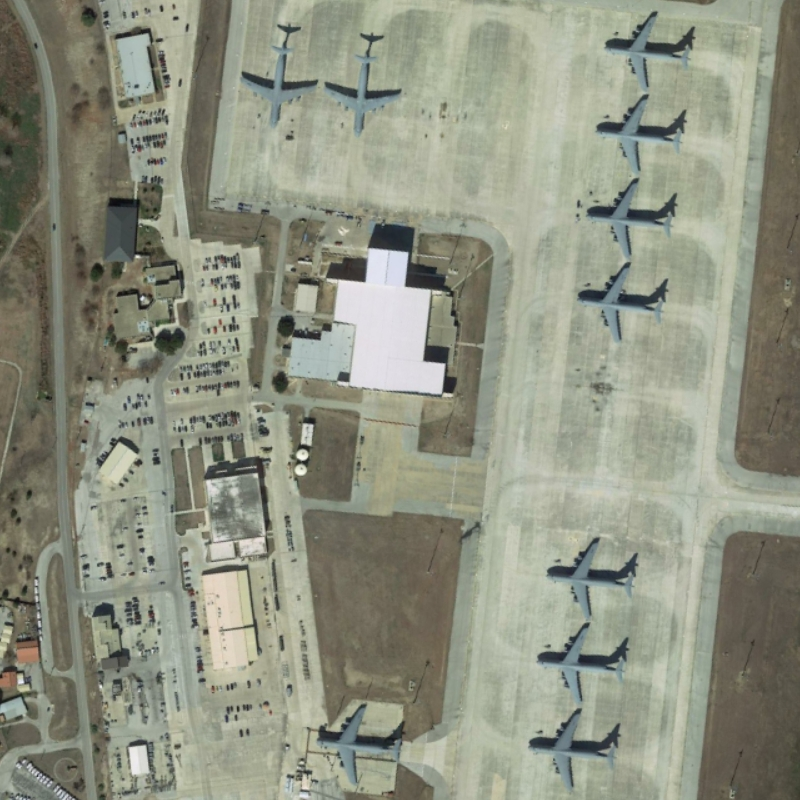A4: (524, 704, 623, 796), (540, 534, 641, 623), (570, 258, 670, 347), (599, 6, 695, 95), (311, 699, 406, 787), (534, 621, 630, 708), (590, 92, 687, 178), (582, 174, 677, 260), (234, 38, 318, 130), (319, 47, 403, 139)
